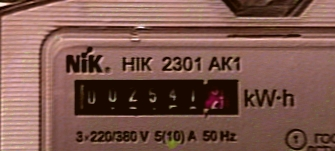0: (85, 83, 98, 104), (106, 82, 118, 103)
1: (187, 80, 198, 103)
2: (126, 81, 140, 103)
4: (167, 80, 178, 101)
5: (146, 81, 159, 104)
6: (209, 96, 220, 108)
screen: (62, 67, 251, 123)
